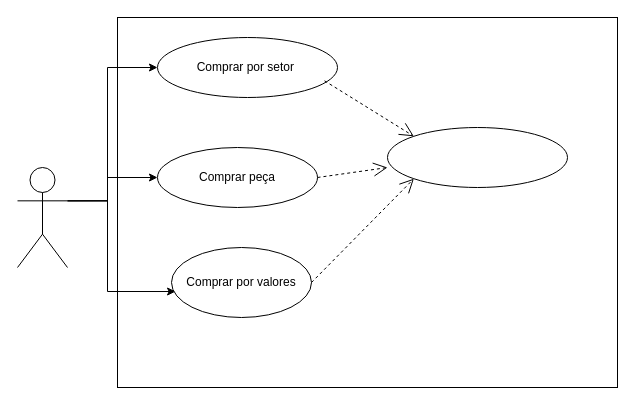
This 635x405 diagram has some shape labels left out. The centre of each missing label's shape, as x and y in pixels:
Actor: pixel 42 217
Consulta de estoque: pixel 477 157
